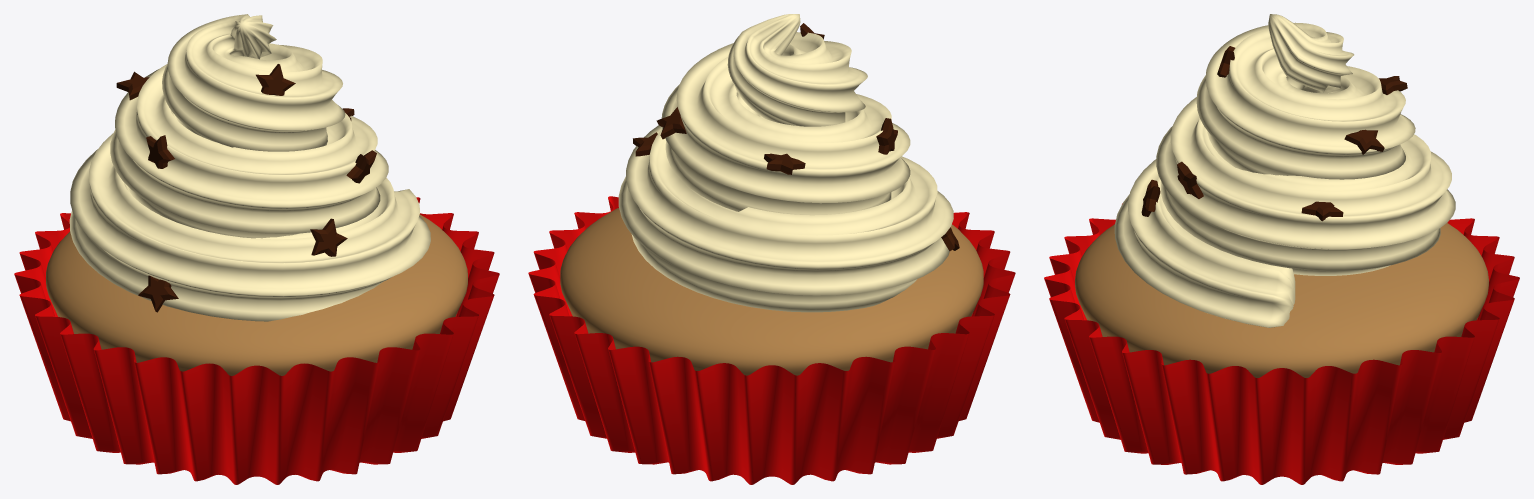
The model's file is muffin.FBX.
The picture shows the model from 3 angles, left to right: view 1: azimuth 30°, elevation 25°; view 2: azimuth 150°, elevation 25°; view 3: azimuth 270°, elevation 25°; orthographic projection. The views are drawn at different scales.
Parts seen in each view (by area): view 1: Loft001; view 2: Loft001; view 3: Loft001.
Part boxes in pixels (box(x1,y1,x2,y2)): Loft001: box(14, 14, 499, 484); Loft001: box(528, 14, 1015, 484); Loft001: box(1044, 14, 1519, 484).
Bounding box in the file's own units: 81.34 × 73.29 × 81.77.
